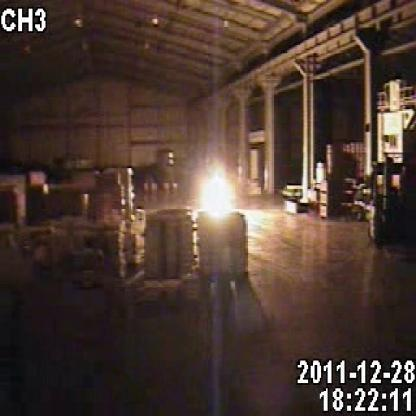fire: (180, 147, 257, 243)
